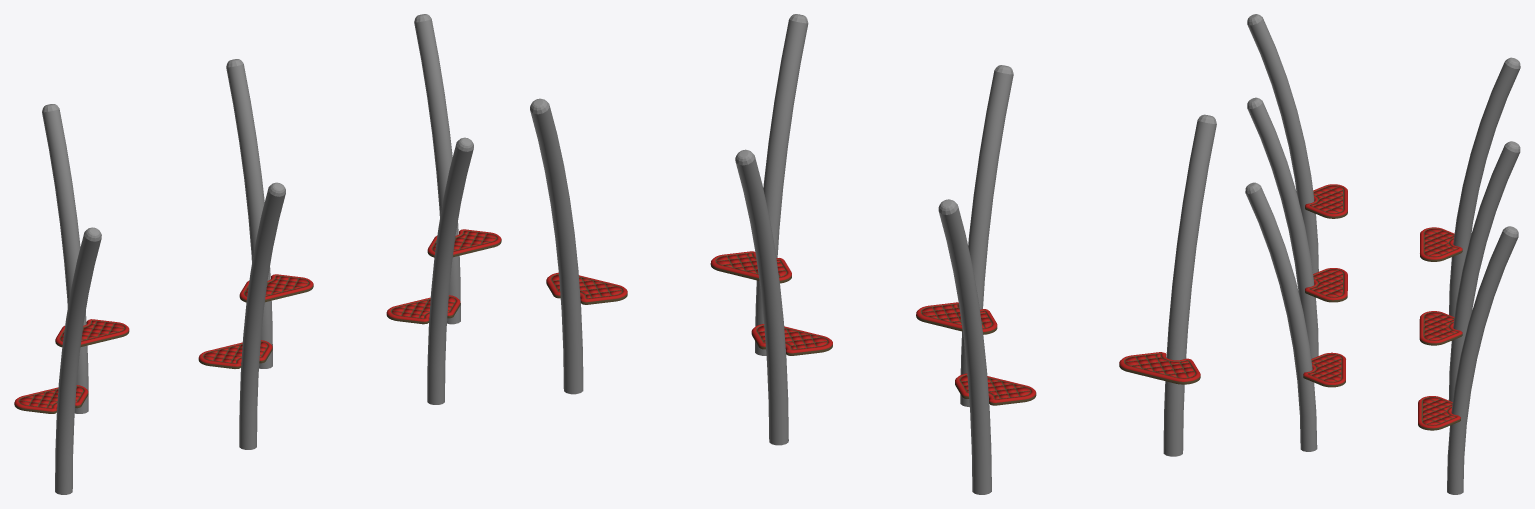
The picture shows the model from 3 angles, left to right: view 1: azimuth 30°, elevation 25°; view 2: azimuth 150°, elevation 25°; view 3: azimuth 270°, elevation 25°; orthographic projection. The views are drawn at different scales.
Visible parts, largest first — view 1: SM_334; view 2: SM_334; view 3: SM_334.
Part boxes in pixels (box(x1,y1,x2,y2)): SM_334: box(14, 14, 501, 494); SM_334: box(530, 14, 1216, 494); SM_334: box(1245, 14, 1520, 494).
Bounding box in the file's own units: 2.02 × 1.02 × 0.9628.
